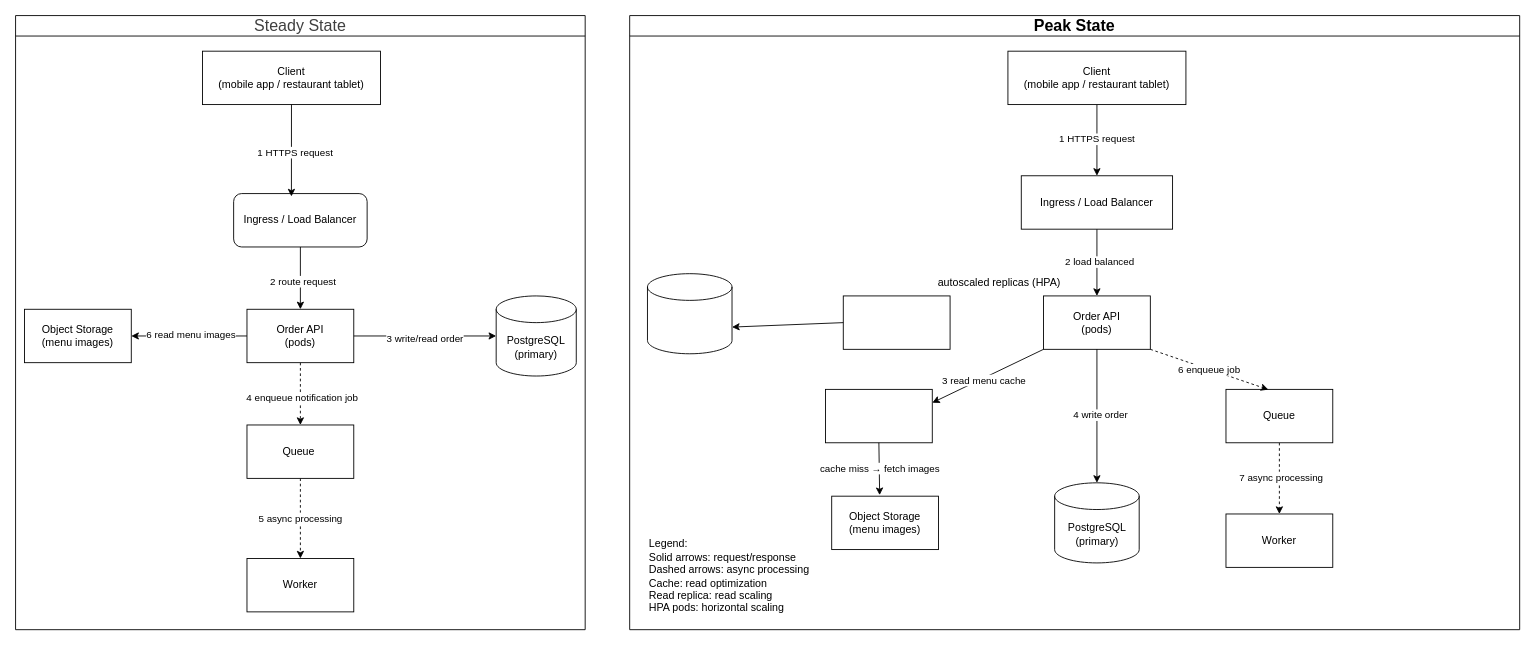
The diagram is 1535 pixels wide and 645 high, and some of its shapes have lost their labels. The centre of each missing label's shape, as x and y in pixels:
Cache (menu data): pixel 878 415
Order API (more pods - HPA): pixel 896 322
PostgreSQL (read replica): pixel 689 313
